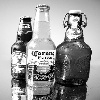beer: (28, 3, 58, 99)
